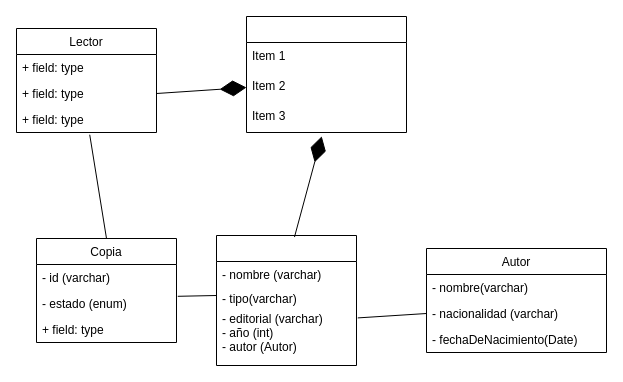
Image size: 623x382. Some labels were removed from this diagram. Here are the shapes that lost their labels. From the top down, the box of each, then its label:
(246, 16, 406, 132): Biblioteca
(216, 234, 356, 366): Libro
